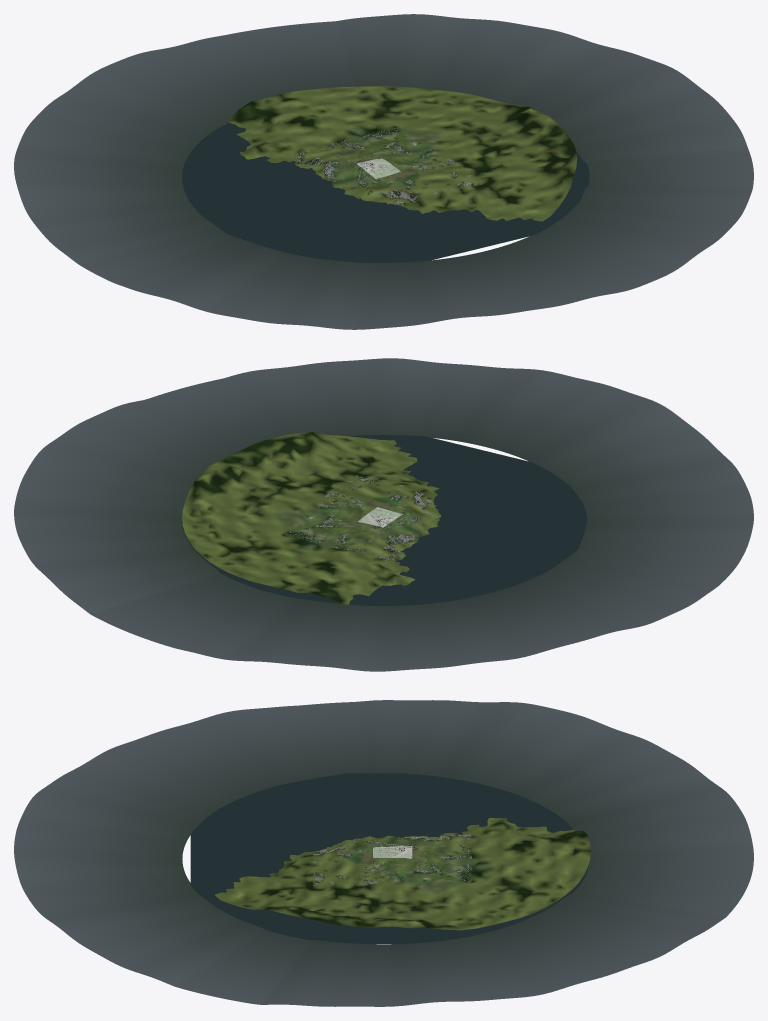
Rendered from byneset_south_06.gltf.
The picture shows the model from 3 angles, top to bottom: view 1: azimuth 30°, elevation 25°; view 2: azimuth 150°, elevation 25°; view 3: azimuth 270°, elevation 25°; orthographic projection.
Visible parts, largest first — view 1: FAR_Horizon, SURF_Far, WATER_Sea, FAR_Trees; view 2: FAR_Horizon, SURF_Far, WATER_Sea, FAR_Trees; view 3: FAR_Horizon, WATER_Sea, SURF_Far, FAR_Trees.
Boxes of the visible parts, x1,y1,x2,y2 form: FAR_Horizon: (14, 14, 753, 329); SURF_Far: (228, 86, 576, 221); WATER_Sea: (182, 122, 589, 262); FAR_Trees: (293, 126, 482, 204); FAR_Horizon: (14, 358, 753, 671); SURF_Far: (182, 431, 441, 605); WATER_Sea: (182, 435, 587, 605); FAR_Trees: (282, 475, 435, 560); FAR_Horizon: (14, 700, 753, 1006); WATER_Sea: (190, 773, 588, 943); SURF_Far: (215, 818, 590, 930); FAR_Trees: (313, 834, 471, 886).
Size of the model in its own units: 11200 by 274 by 11200.
